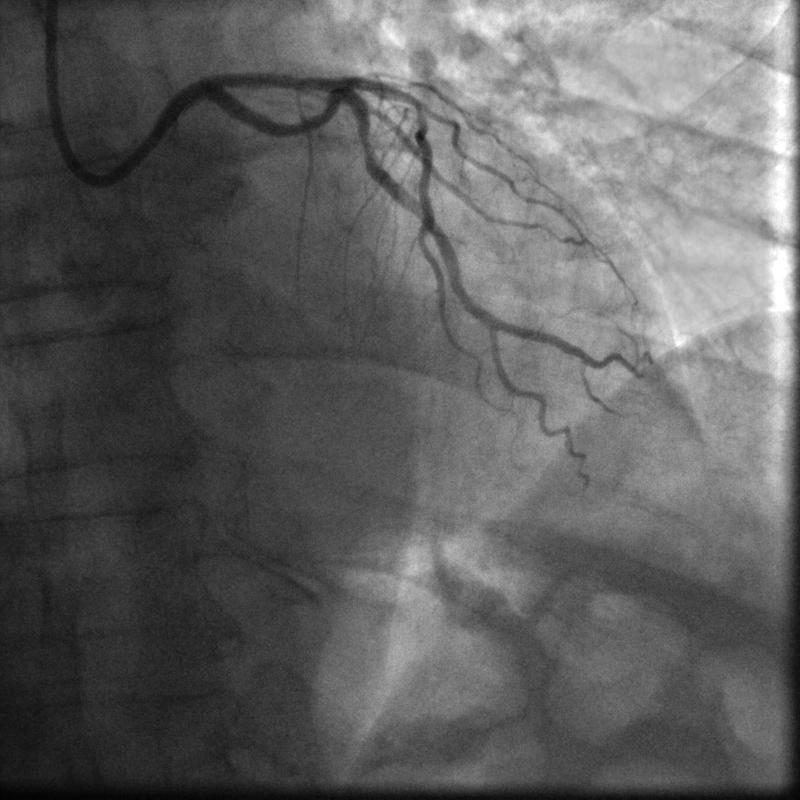Stenosis: (359, 130, 373, 152)
